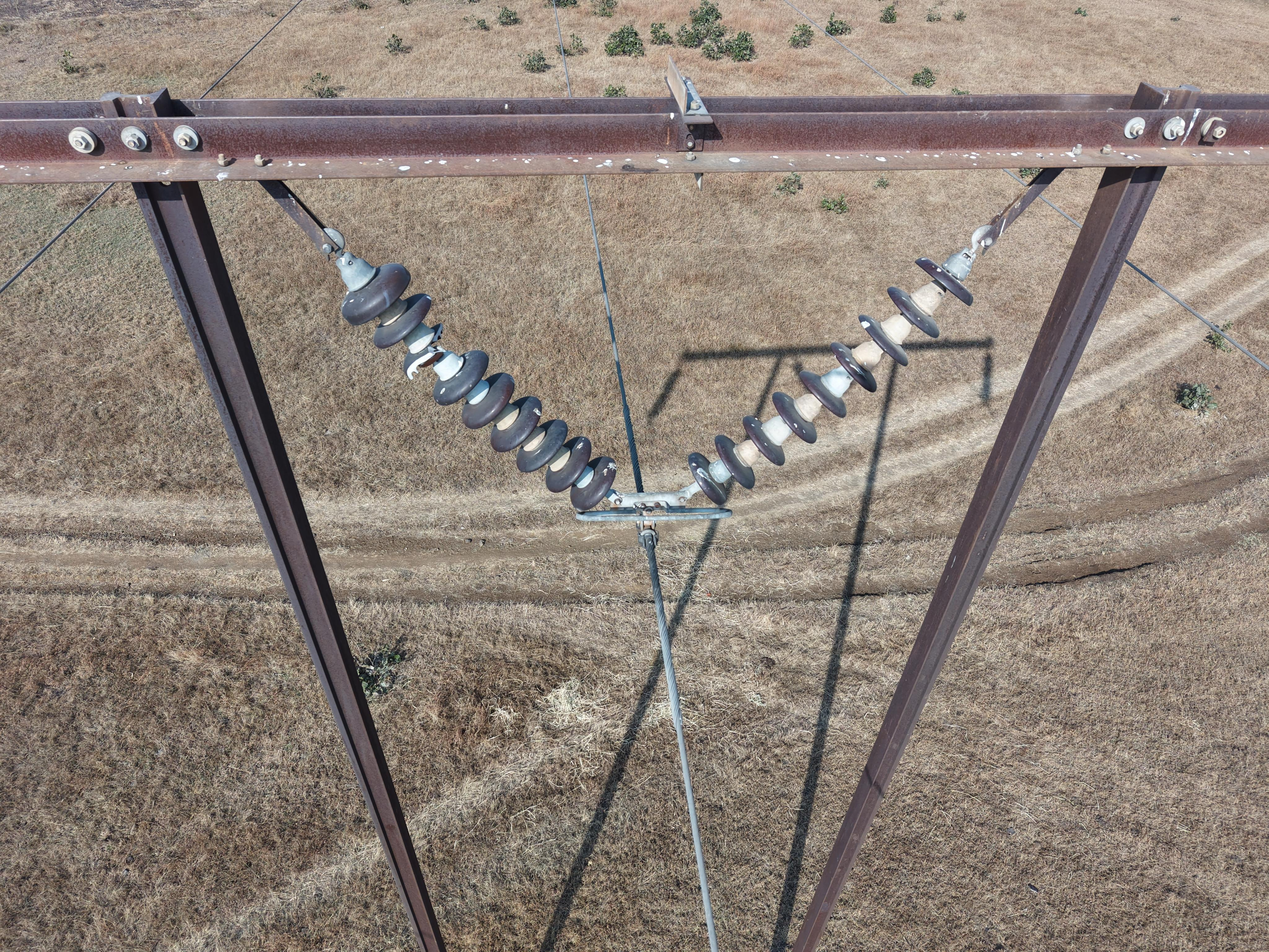broken_insulator: (403, 322, 454, 381)
